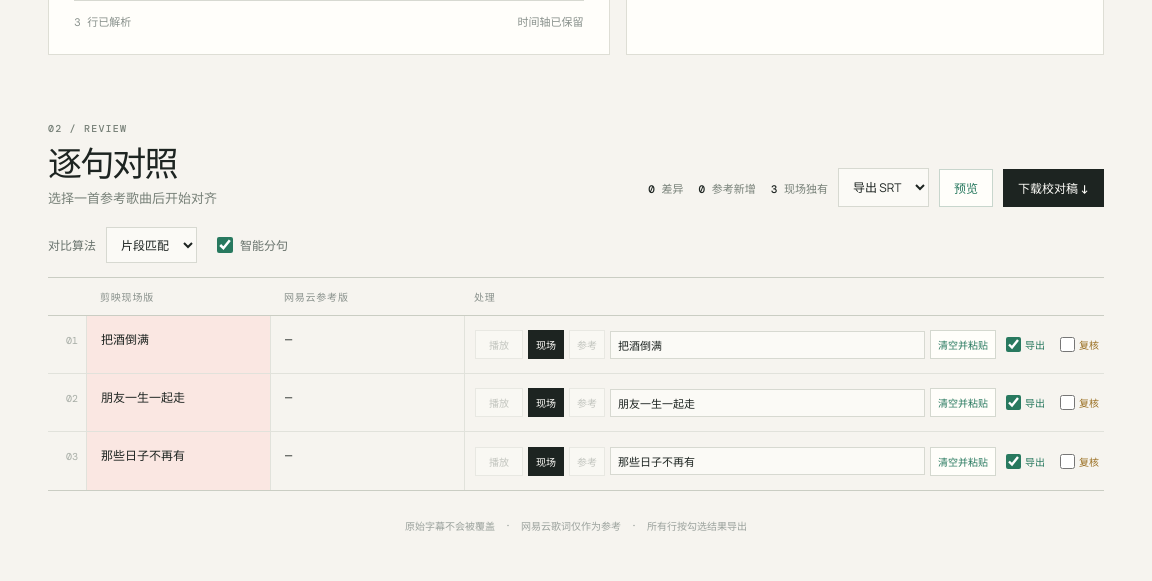
alignment controls › replaces a row edit with clipboard text from the clear-and-paste action
(page scrolled)
Click the button with aria-label "清空并粘贴第 1 行": click(963, 345) [930, 330, 996, 359]
(page scrolled)
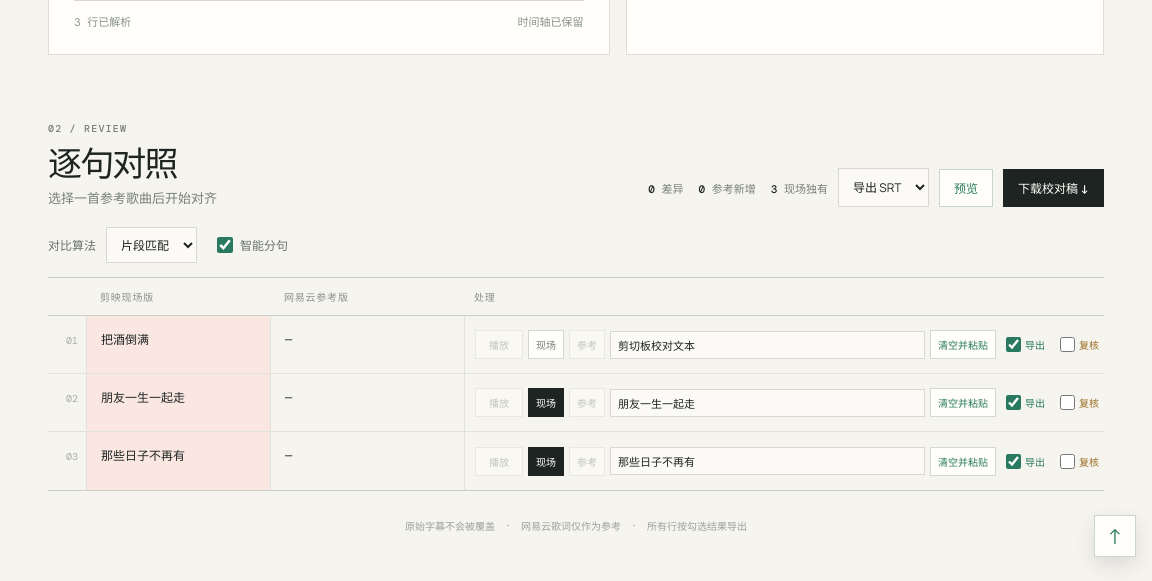
Check: the field named "编辑第 1 行" holds "剪切板校对文本", box [610, 331, 925, 359]
